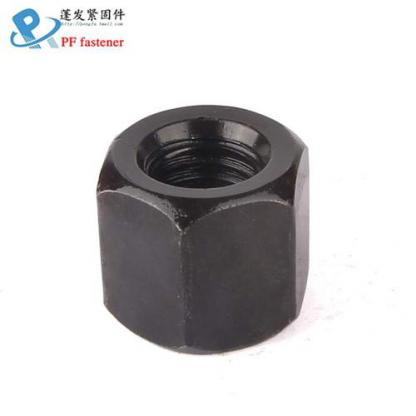FOD: (91, 101, 313, 358)
